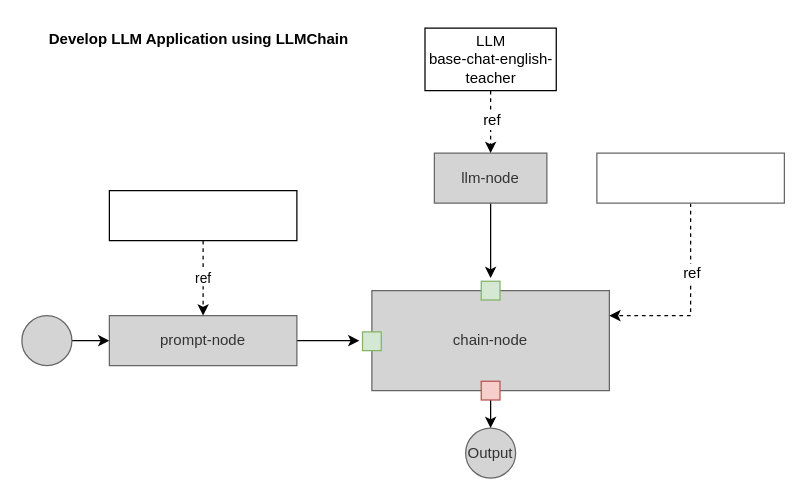
Image size: 806x500. Some labels were removed from this diagram. The shapes that lost their labels are listed below. From the top down, each one's centre as x and y in pixels, then its label:
At point (690, 177): "LLMChain base-chat-english-teacher".
At point (202, 215): "Prompt base-chat-english-teacher".
At point (46, 340): "Input".
